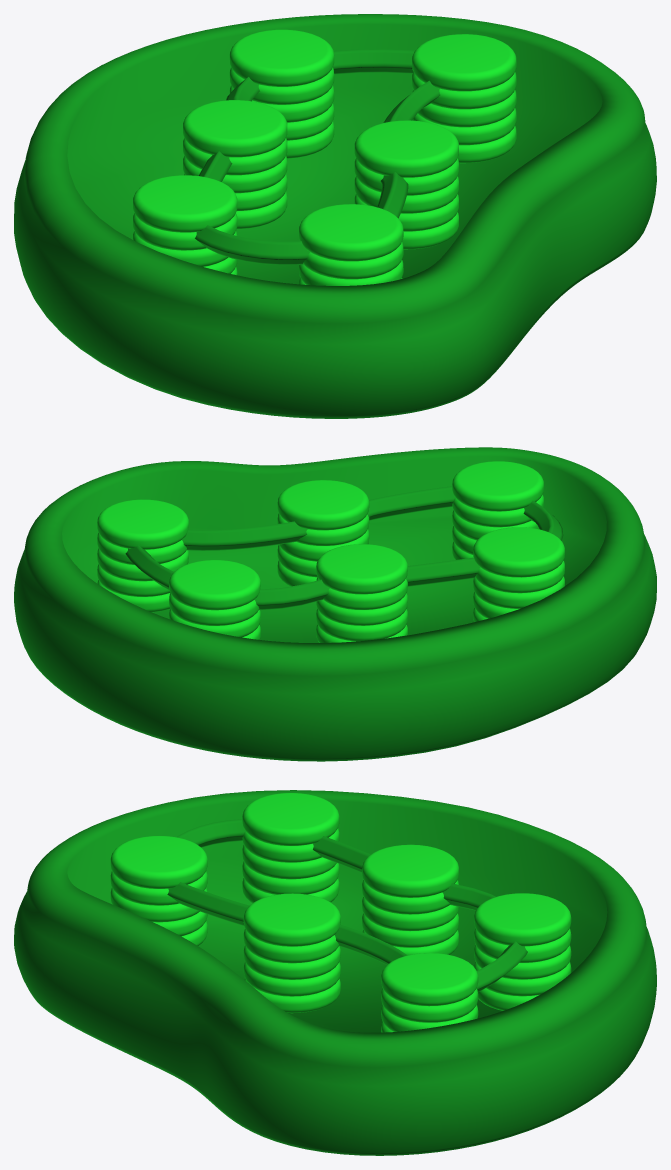
File: Cloroplasto.glb
3 renders of one model, top to bottom at view 1: azimuth 30°, elevation 25°; view 2: azimuth 150°, elevation 25°; view 3: azimuth 270°, elevation 25°, orthographic. The views are drawn at different scales.
Visible parts, largest first — view 1: cloroplasto; view 2: cloroplasto; view 3: cloroplasto.
Part boxes in pixels (bbox=[...]): cloroplasto: bbox=[14, 14, 656, 418]; cloroplasto: bbox=[14, 447, 656, 761]; cloroplasto: bbox=[14, 790, 656, 1155].
Bounding box in the file's own units: 0.5618 × 0.1241 × 0.5576.
